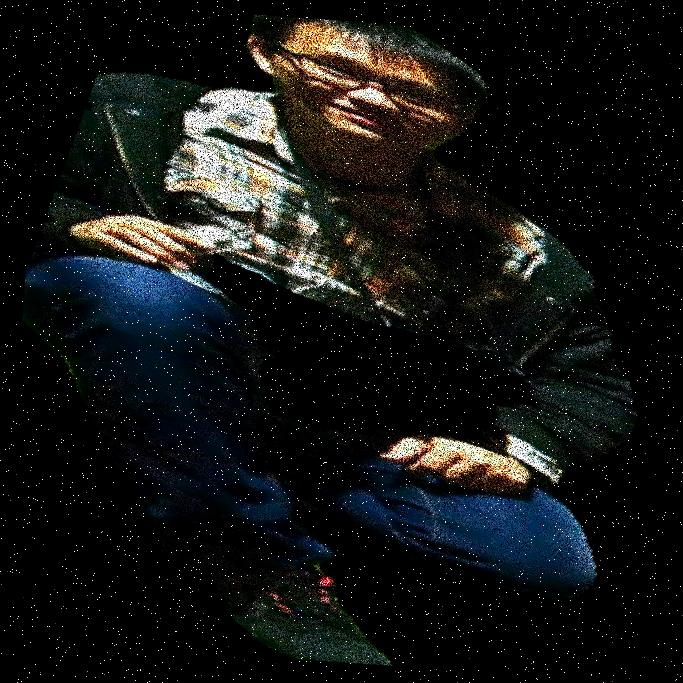Pessoa: (159, 0, 466, 682)
